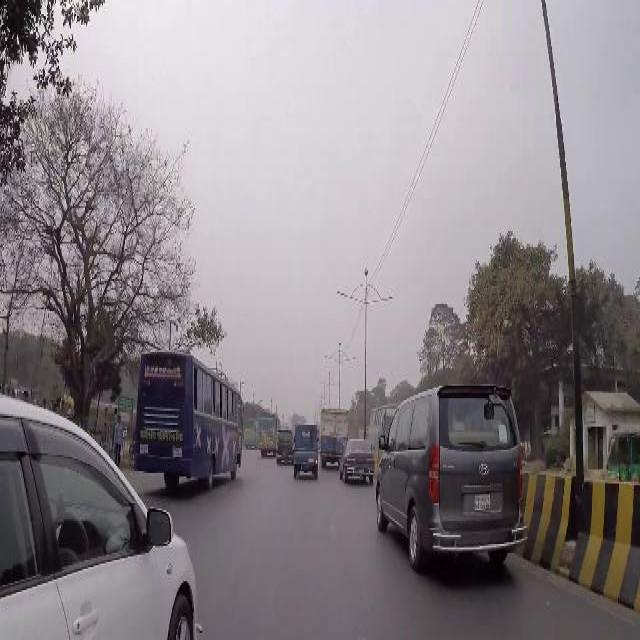vehicle: (3, 383, 202, 637), (375, 384, 530, 560), (134, 350, 245, 492), (604, 426, 639, 483), (320, 407, 350, 471), (339, 439, 377, 485), (294, 424, 321, 479), (257, 413, 281, 457), (370, 404, 398, 438), (276, 428, 295, 466)
